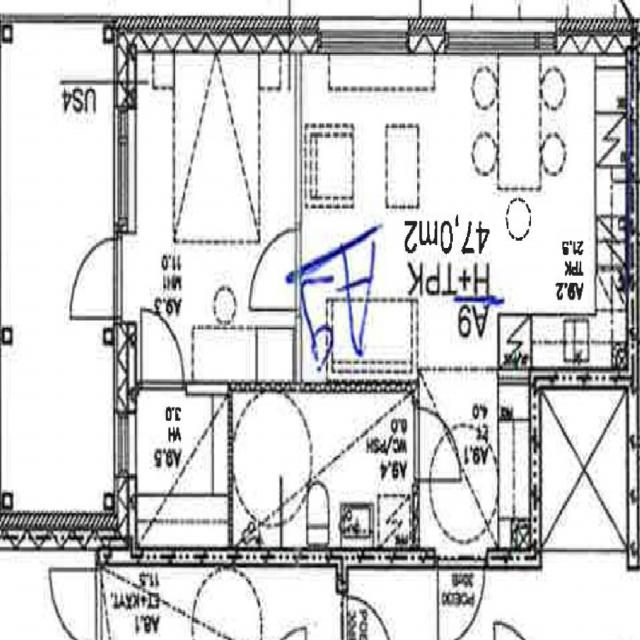door: (68, 239, 122, 317), (250, 230, 302, 309), (438, 557, 484, 640), (413, 408, 462, 482), (142, 311, 182, 391)
